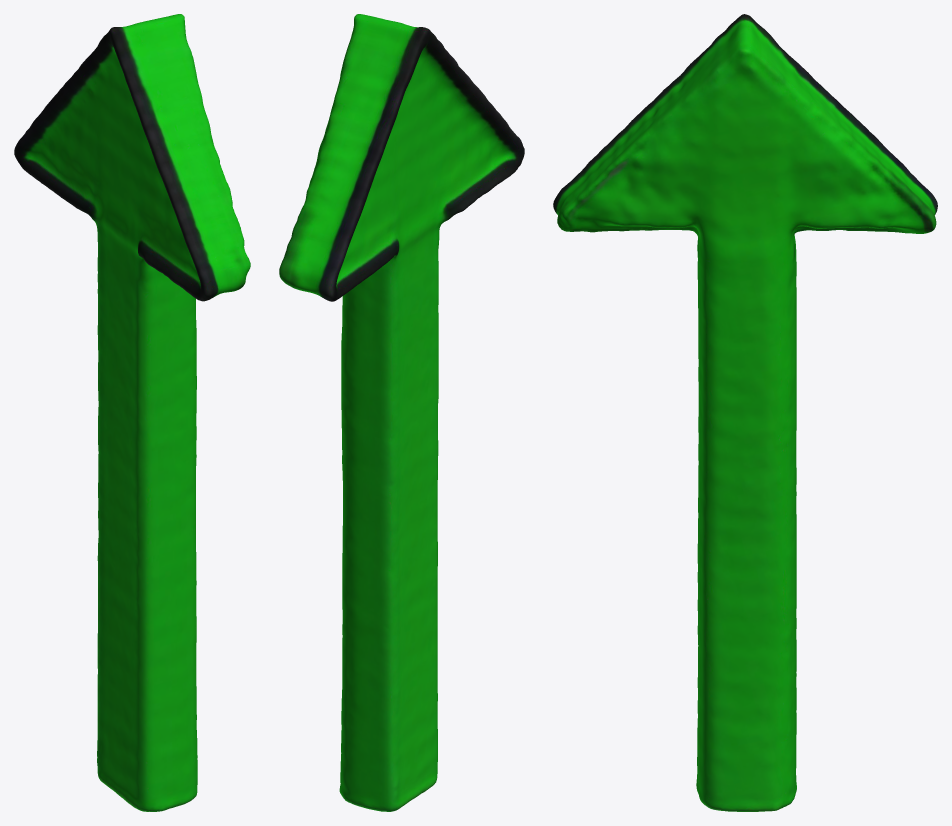
File: dad237aa68d7_green_arrow_sign__3.fbx
3 renders of one model, left to right at view 1: azimuth 30°, elevation 25°; view 2: azimuth 150°, elevation 25°; view 3: azimuth 270°, elevation 25°, orthographic.
Visible parts, largest first — view 1: high_poly; view 2: high_poly; view 3: high_poly.
Boxes of the visible parts, x1,y1,x2,y2 form: high_poly: [14, 14, 250, 811]; high_poly: [279, 14, 524, 811]; high_poly: [553, 14, 937, 811].
Size of the model in its own units: 10.42 by 100 by 45.58.
